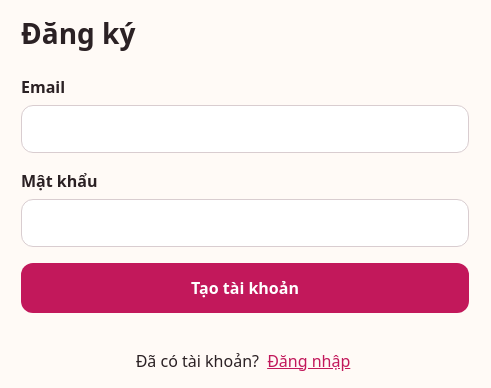
Test: SignUpPage signs up and lands on home greeting the user
Type "moi@example.com" into the field labelled "Email" at [245, 129], box [21,105,469,153]
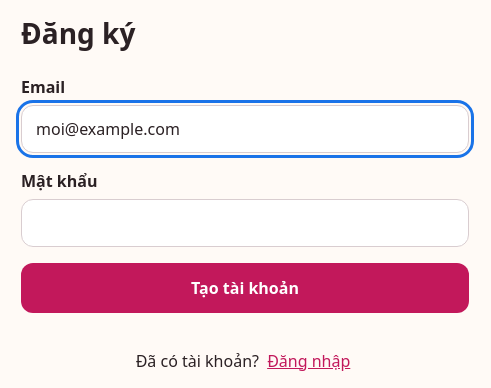
Type "mật khẩu có dấu" into the password field labelled "Mật khẩu" at [245, 223], box [21,199,469,247]
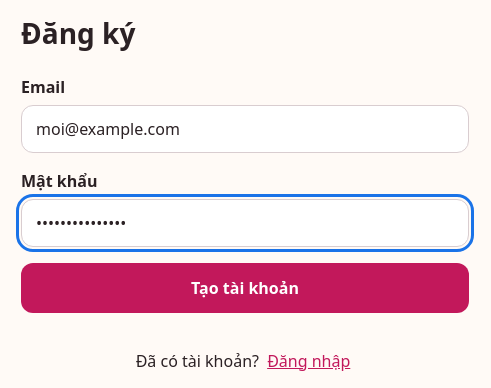
Click the button "Tạo tài khoản" at [245, 288], box [21,263,469,313]
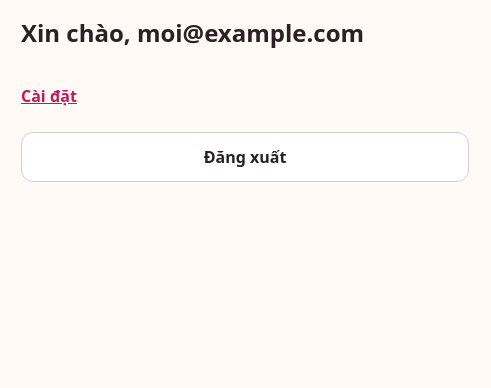
Result: the heading "Xin chào, moi@example.com" is shown at [21,16,364,49]
